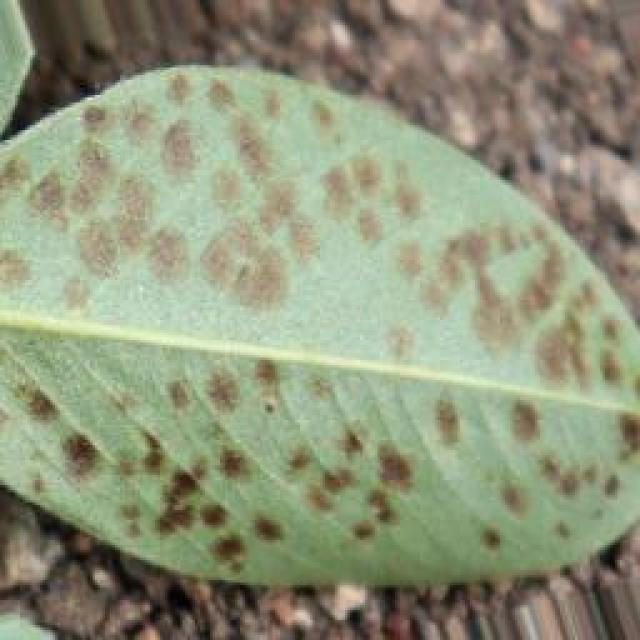Whitefly: (0, 58, 640, 572)
